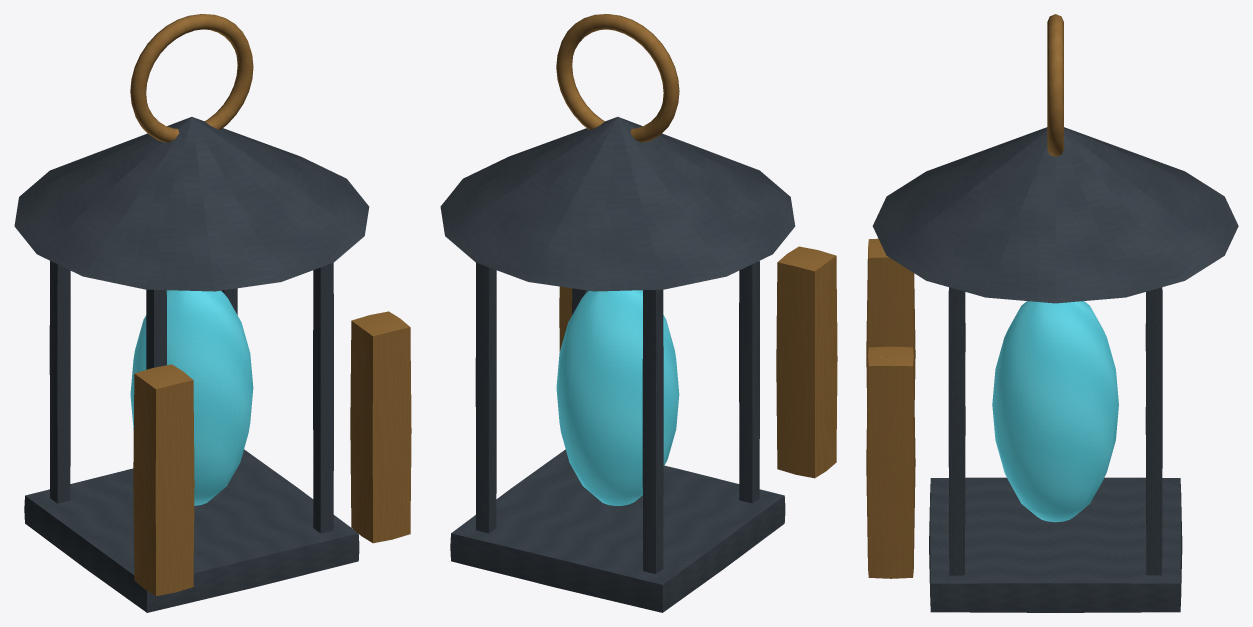
3 views of the same model, side by side, from view 1: azimuth 30°, elevation 25°; view 2: azimuth 150°, elevation 25°; view 3: azimuth 270°, elevation 25° (orthographic). The views are drawn at different scales.
Parts seen in each view (by area): view 1: iron.6, iron.0, brass.9, brass.8, crystal.5, iron.4, brass.7, iron.1, iron.2; view 2: iron.6, iron.0, crystal.5, brass.8, iron.1, iron.3, brass.7, iron.2, brass.9; view 3: iron.6, iron.0, crystal.5, brass.9, iron.4, iron.3, brass.8, brass.7.
Part boxes in pixels (x1,y1,x2,y2): iron.6: [14, 117, 369, 291]; iron.0: [24, 449, 359, 612]; brass.9: [350, 311, 411, 543]; brass.8: [133, 364, 194, 596]; crystal.5: [130, 290, 253, 505]; iron.4: [313, 263, 333, 533]; brass.7: [130, 14, 253, 142]; iron.1: [49, 261, 70, 503]; iron.2: [146, 289, 166, 369]; iron.6: [440, 117, 795, 291]; iron.0: [450, 449, 785, 612]; crystal.5: [556, 290, 679, 505]; brass.8: [776, 246, 837, 478]; iron.1: [642, 289, 663, 573]; iron.3: [475, 262, 496, 533]; brass.7: [556, 14, 679, 142]; iron.2: [739, 261, 759, 503]; brass.9: [559, 286, 572, 351]; iron.6: [872, 127, 1238, 303]; iron.0: [929, 477, 1182, 612]; crystal.5: [992, 301, 1118, 522]; brass.9: [866, 346, 915, 578]; iron.4: [948, 287, 965, 575]; iron.3: [1145, 287, 1162, 575]; brass.8: [866, 238, 915, 407]; brass.7: [1047, 14, 1063, 156].
Size of the model in its own units: 0.26 by 0.4235 by 0.2645.
3 materials, 3 textured.
